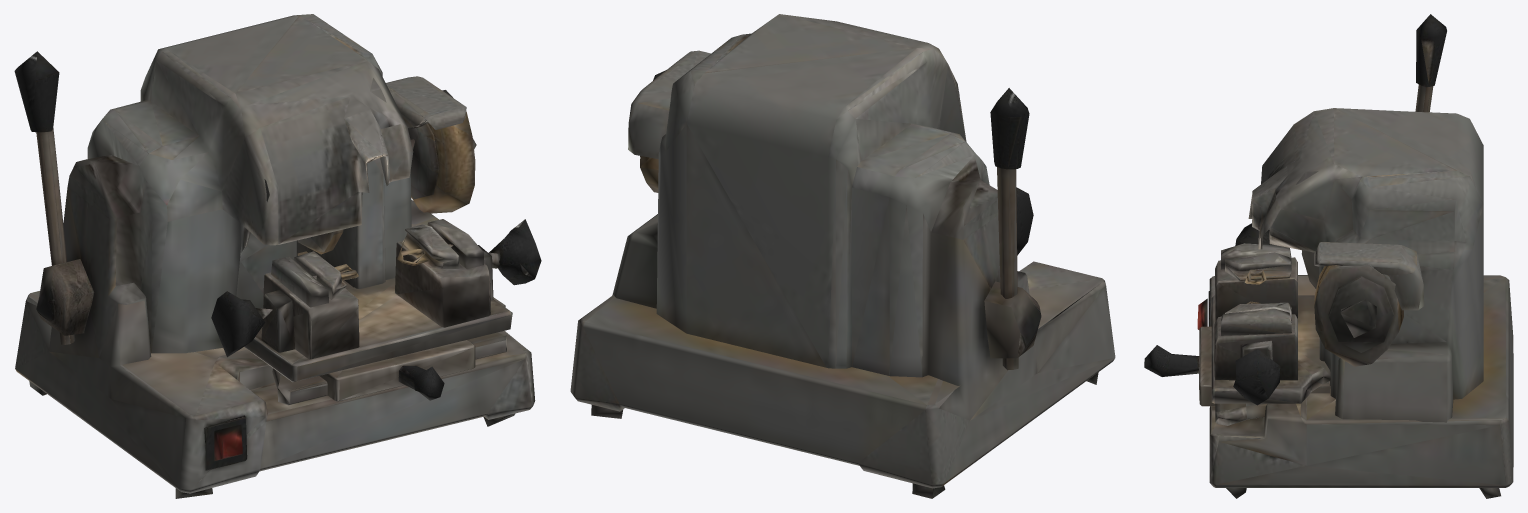
File: p7-key-cutting-machine-t25.glb
The picture shows the model from 3 angles, left to right: view 1: azimuth 30°, elevation 25°; view 2: azimuth 150°, elevation 25°; view 3: azimuth 270°, elevation 25°; orthographic projection. The views are drawn at different scales.
Visible parts, largest first — view 1: p7-key-cutting-machine-t25; view 2: p7-key-cutting-machine-t25; view 3: p7-key-cutting-machine-t25.
Part boxes in pixels (x1,y1,x2,y2): p7-key-cutting-machine-t25: (14,14,541,498); p7-key-cutting-machine-t25: (570,14,1115,498); p7-key-cutting-machine-t25: (1144,14,1513,498).
Size of the model in its own units: 0.35 by 0.3 by 0.306.
1 material, 1 textured.
